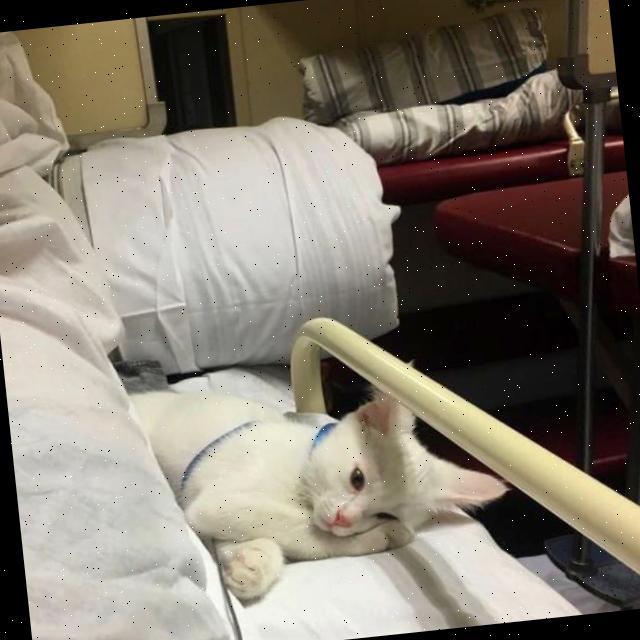cat: (126, 358, 494, 610)
